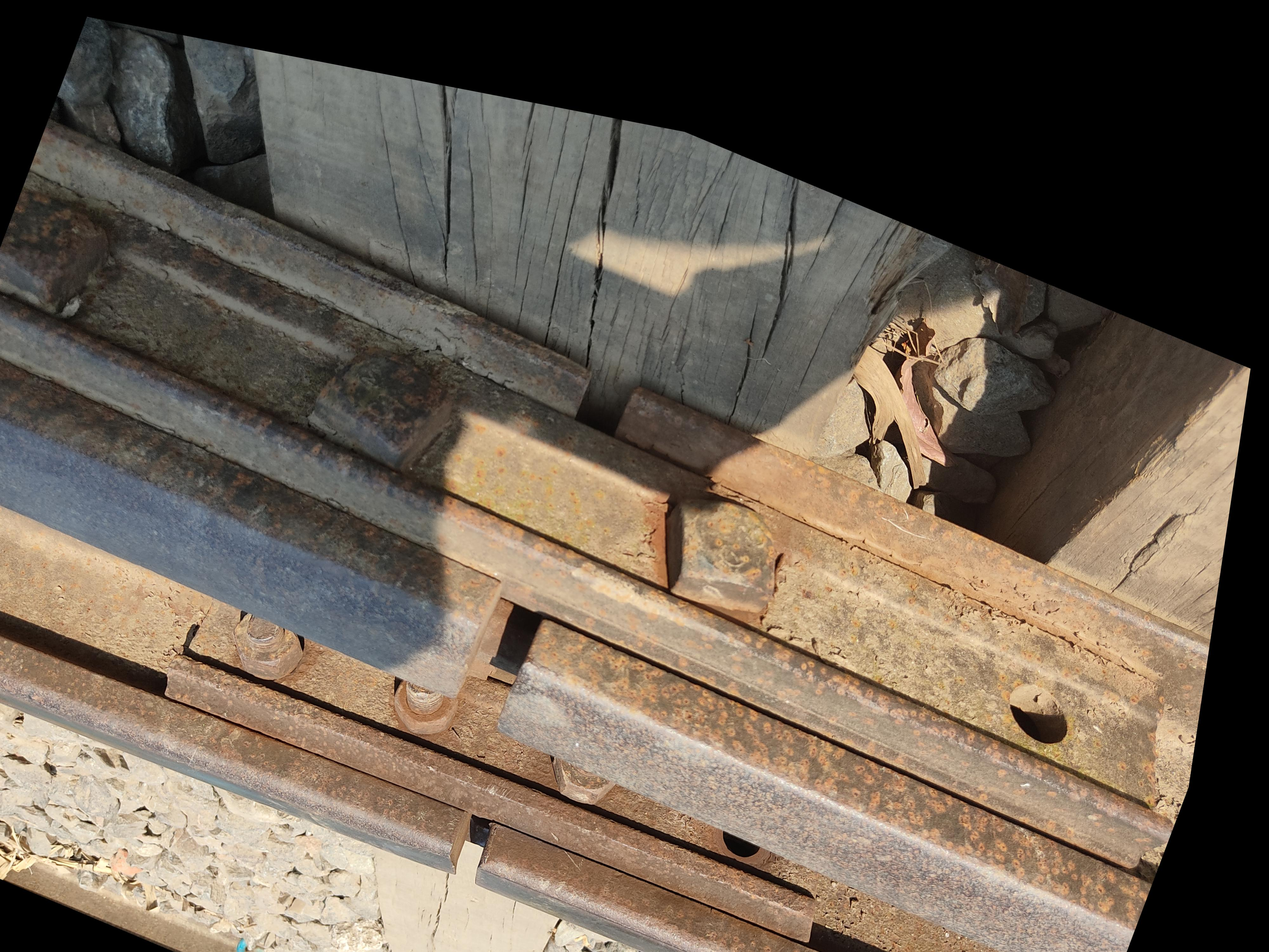person: (115, 653, 234, 766), (127, 772, 206, 847), (192, 546, 266, 618)
